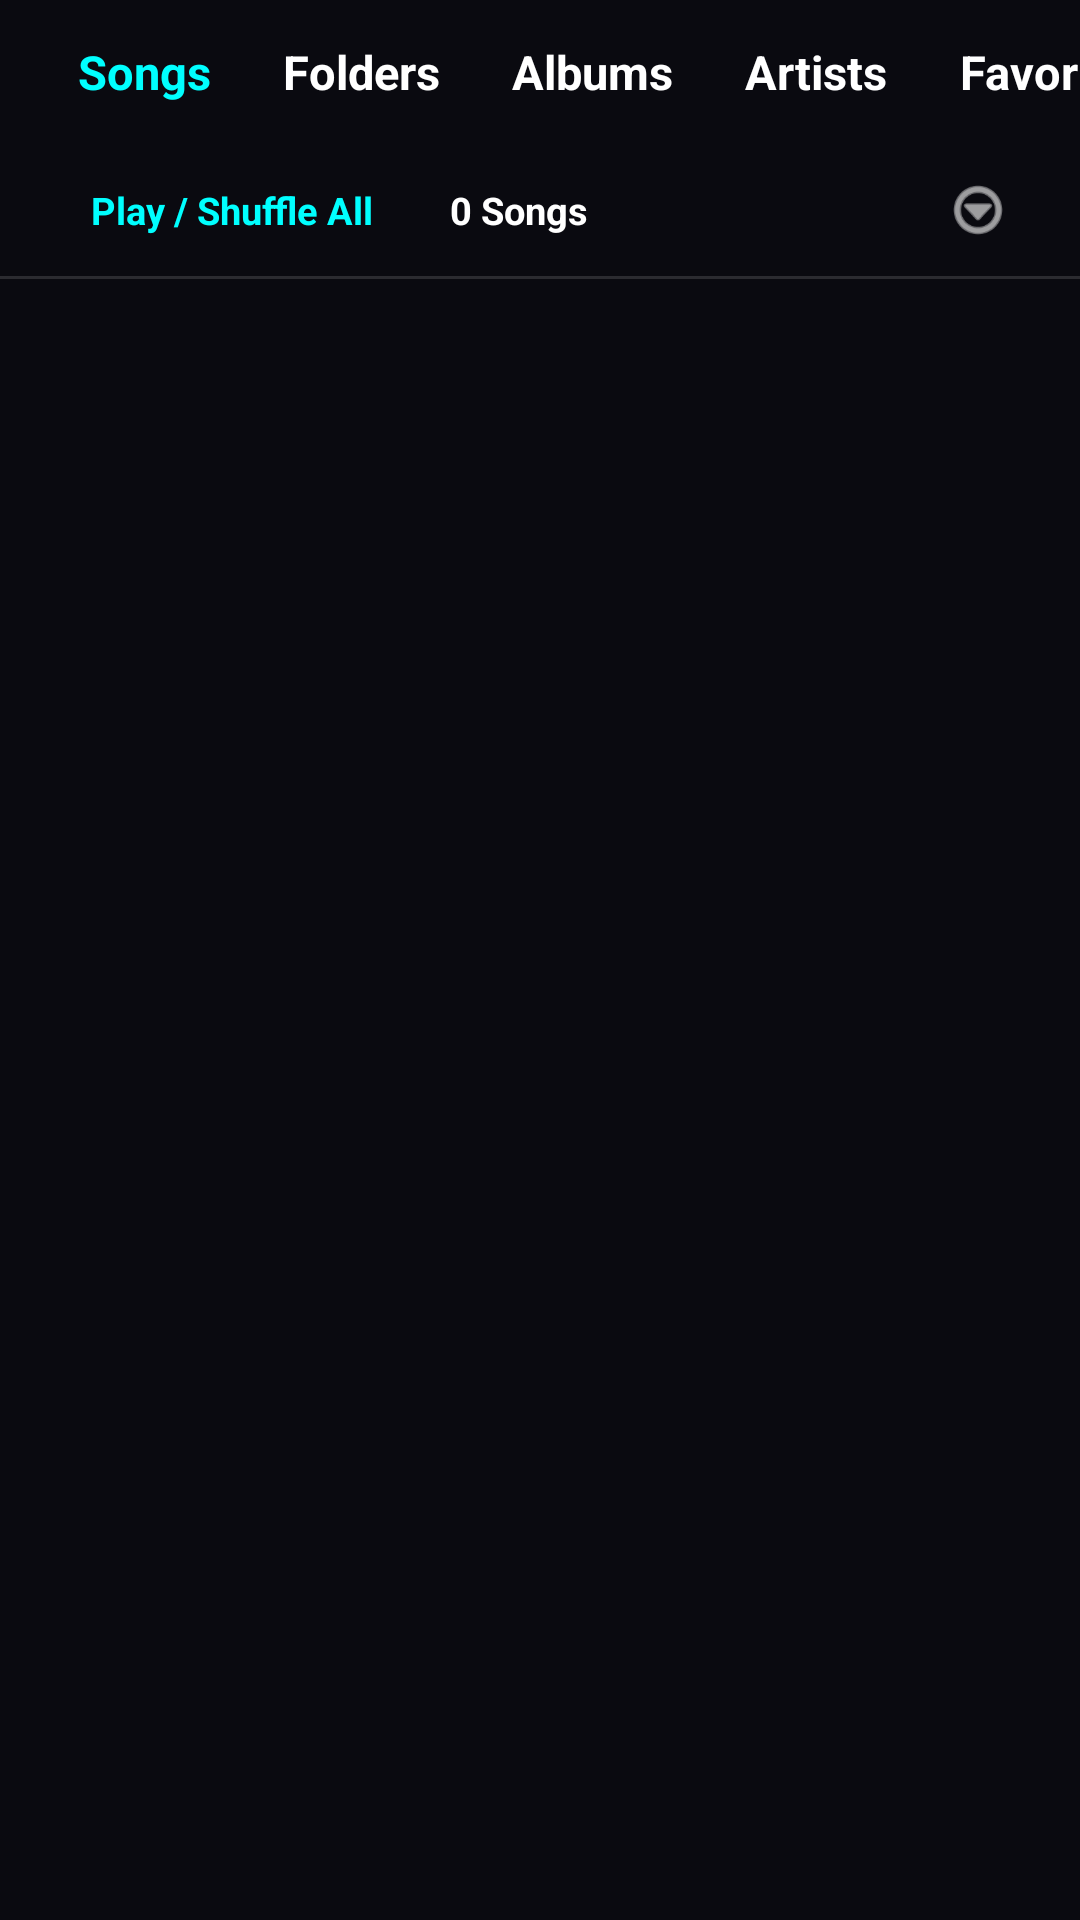

Where to tap for icons on this 1080×1920 app screen, as (x,y):
more: (978,210)
